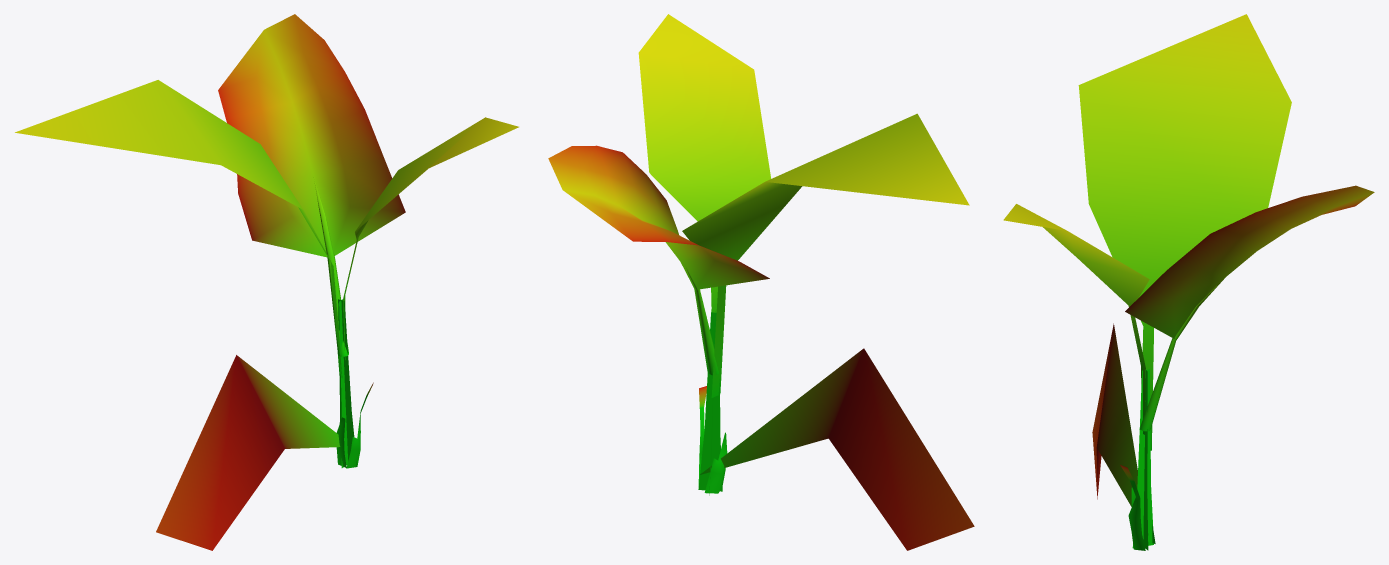
Rendered from Cat Palm_LOD4_Var3_tjejafeia.fbx.
The picture shows the model from 3 angles, left to right: view 1: azimuth 30°, elevation 25°; view 2: azimuth 150°, elevation 25°; view 3: azimuth 270°, elevation 25°; orthographic projection. The views are drawn at different scales.
Parts seen in each view (by area): view 1: _c213_Var3_LOD4; view 2: _c213_Var3_LOD4; view 3: _c213_Var3_LOD4.
Boxes of the visible parts, x1,y1,x2,y2 form: _c213_Var3_LOD4: (15,14,518,550); _c213_Var3_LOD4: (548,14,974,550); _c213_Var3_LOD4: (1003,14,1374,550).
Bounding box in the file's own units: 82.39 × 80.25 × 64.38.
